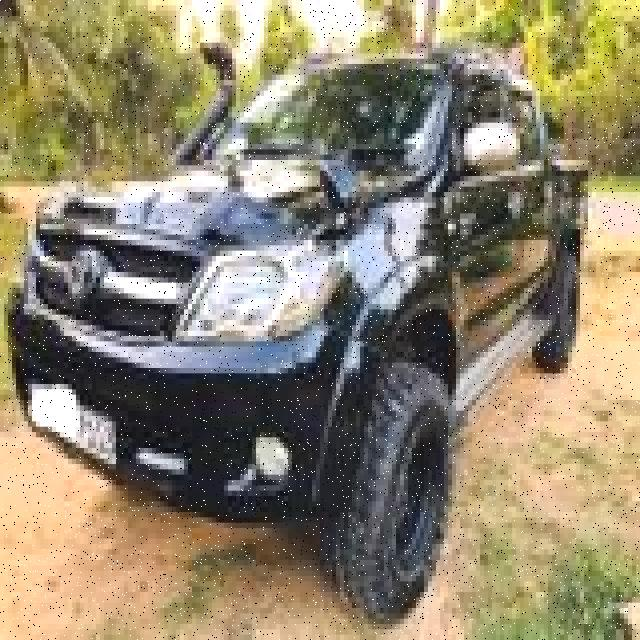car: (3, 36, 606, 600)
